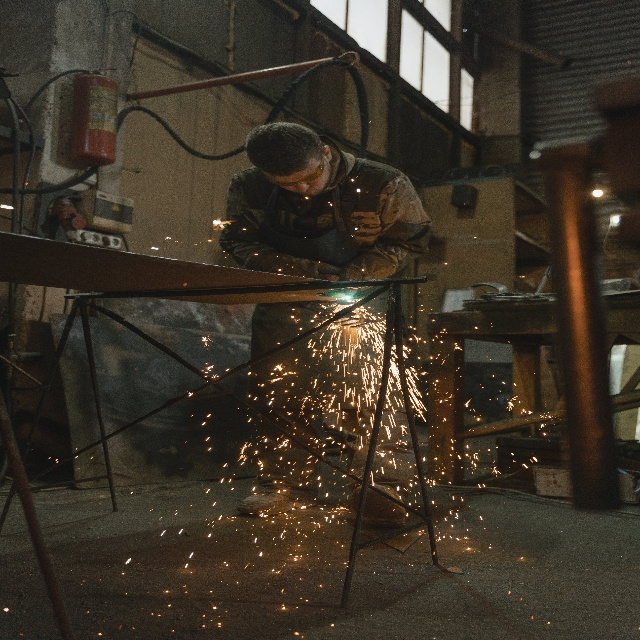Gafas: (263, 139, 324, 187)
Guantes: (340, 251, 394, 281), (282, 254, 341, 281)
